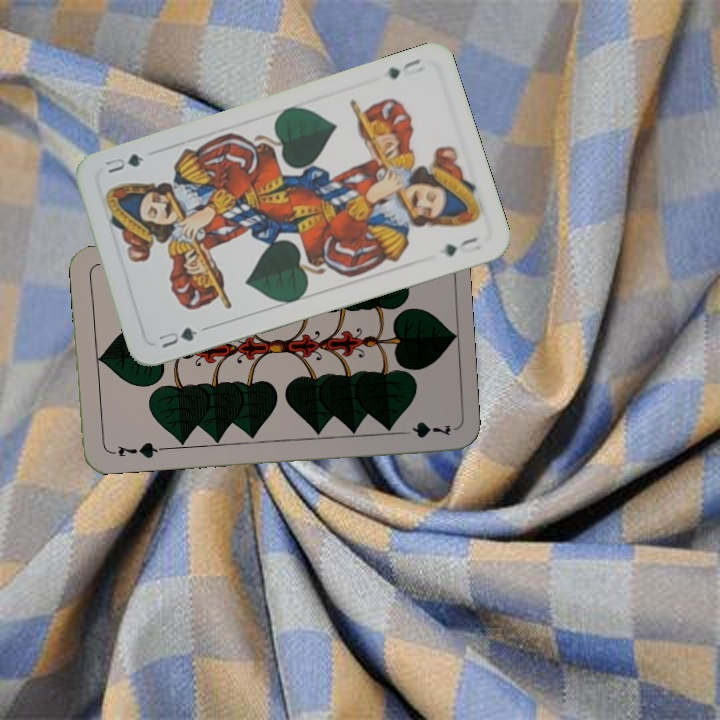G7: (106, 439, 165, 461)
GU: (154, 323, 200, 351), (382, 54, 427, 82)
